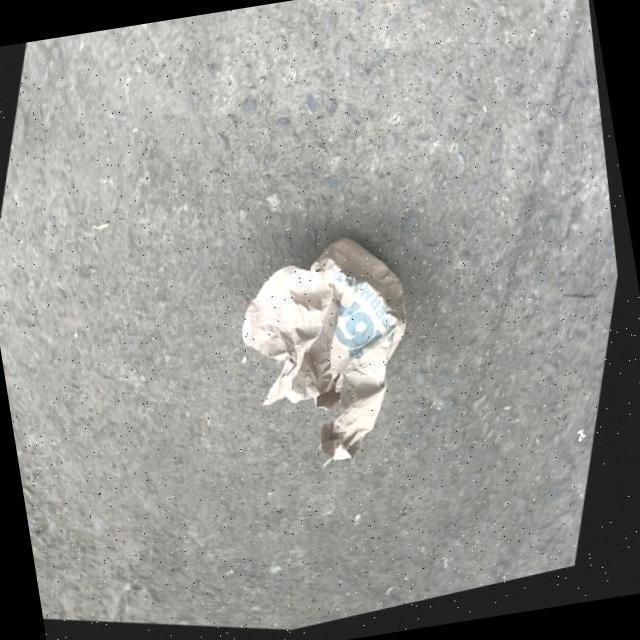Paper_Bag: (194, 206, 466, 511)
